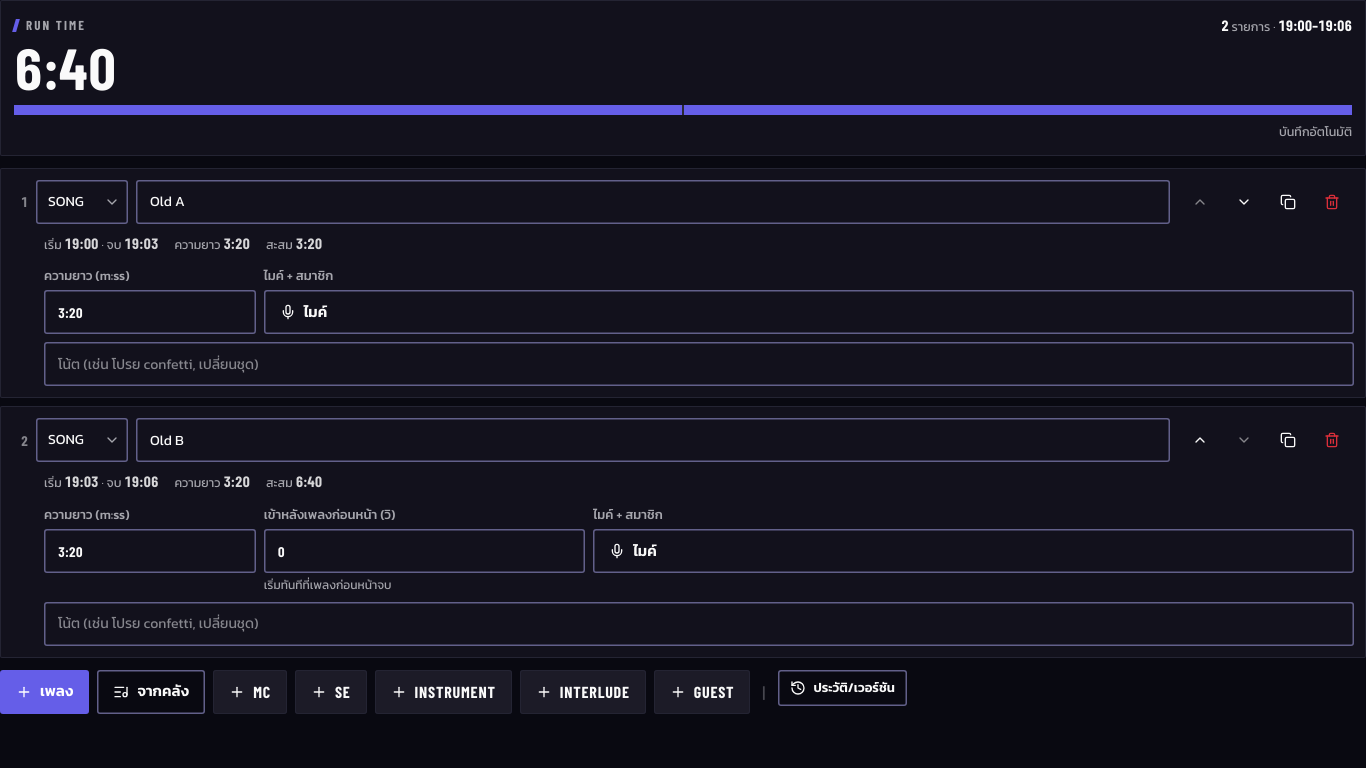
Test: SetlistBuilder — restoring a saved version › refetches and warns when the rollback ALSO removed nothing
Click the button with class "lucide-history" at (842, 688), box [778, 670, 907, 706]
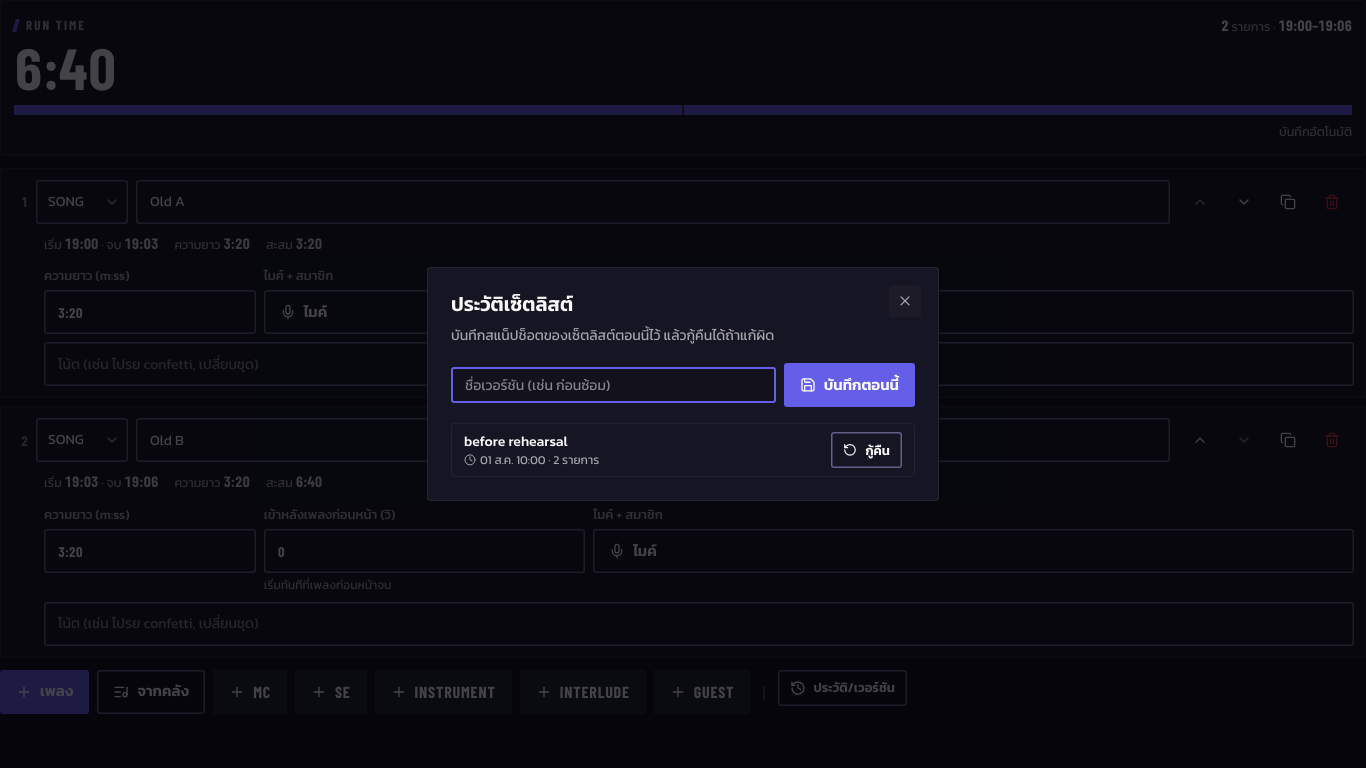
Check: the icon with class "lucide-rotate-ccw" is shown, box [844, 443, 858, 457]
Click the button with class "lucide-rotate-ccw" at (867, 450), box [832, 432, 902, 468]
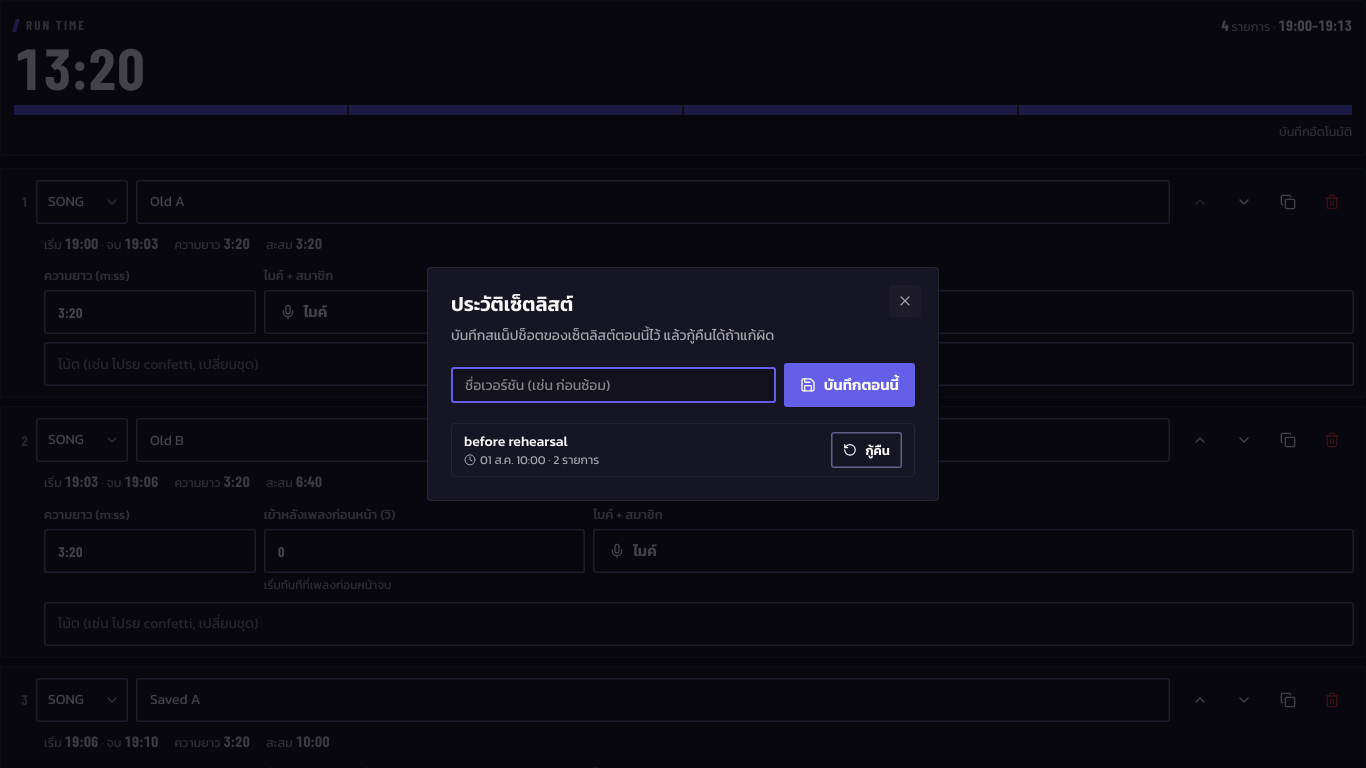
Check: the field showing "Old A" is shown, box [136, 180, 1170, 224]
Check: the field showing "Saved A" is shown, box [136, 678, 1170, 722]
